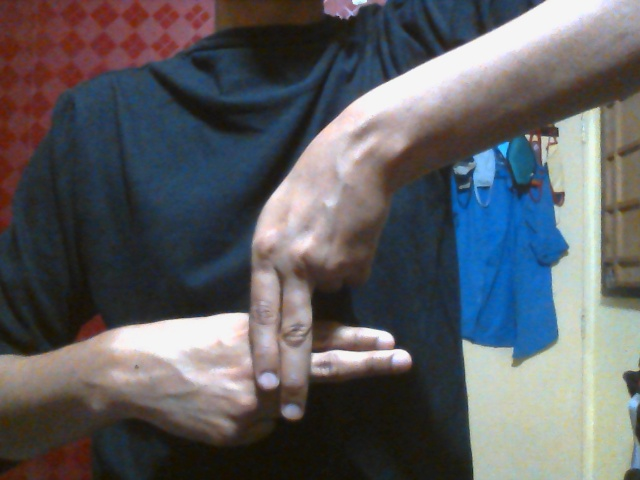F: (124, 158, 413, 451)
